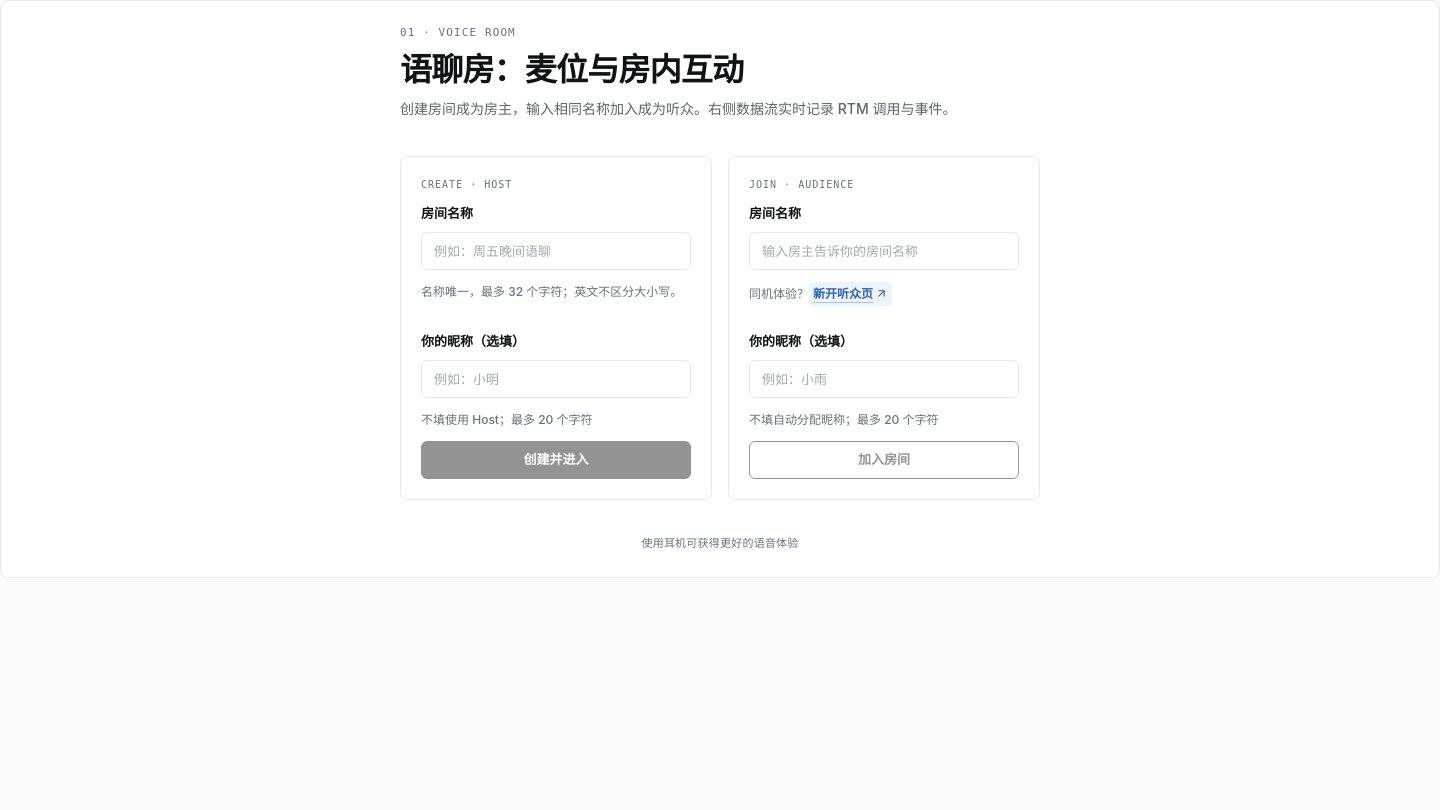
Scenario: 入口选填昵称 › 实际房间订阅期间可取消，清理完成后保留两个昵称草稿
Type "取消昵称" into the field named "房间标题" at {"x": 556, "y": 251}, box [421,232,691,270]
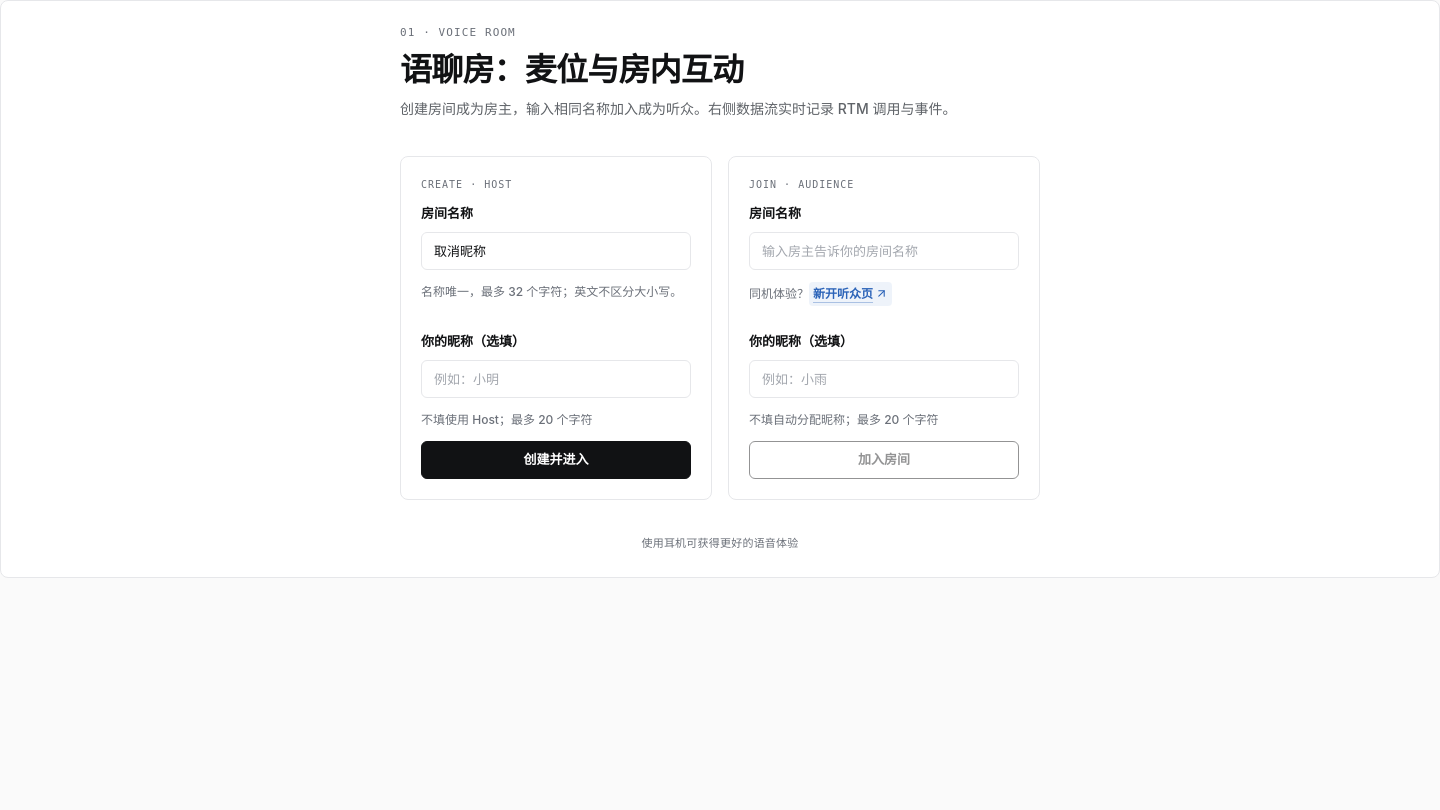
Type "房主草稿" into the field named "房主昵称" at {"x": 556, "y": 379}, box [421,360,691,398]
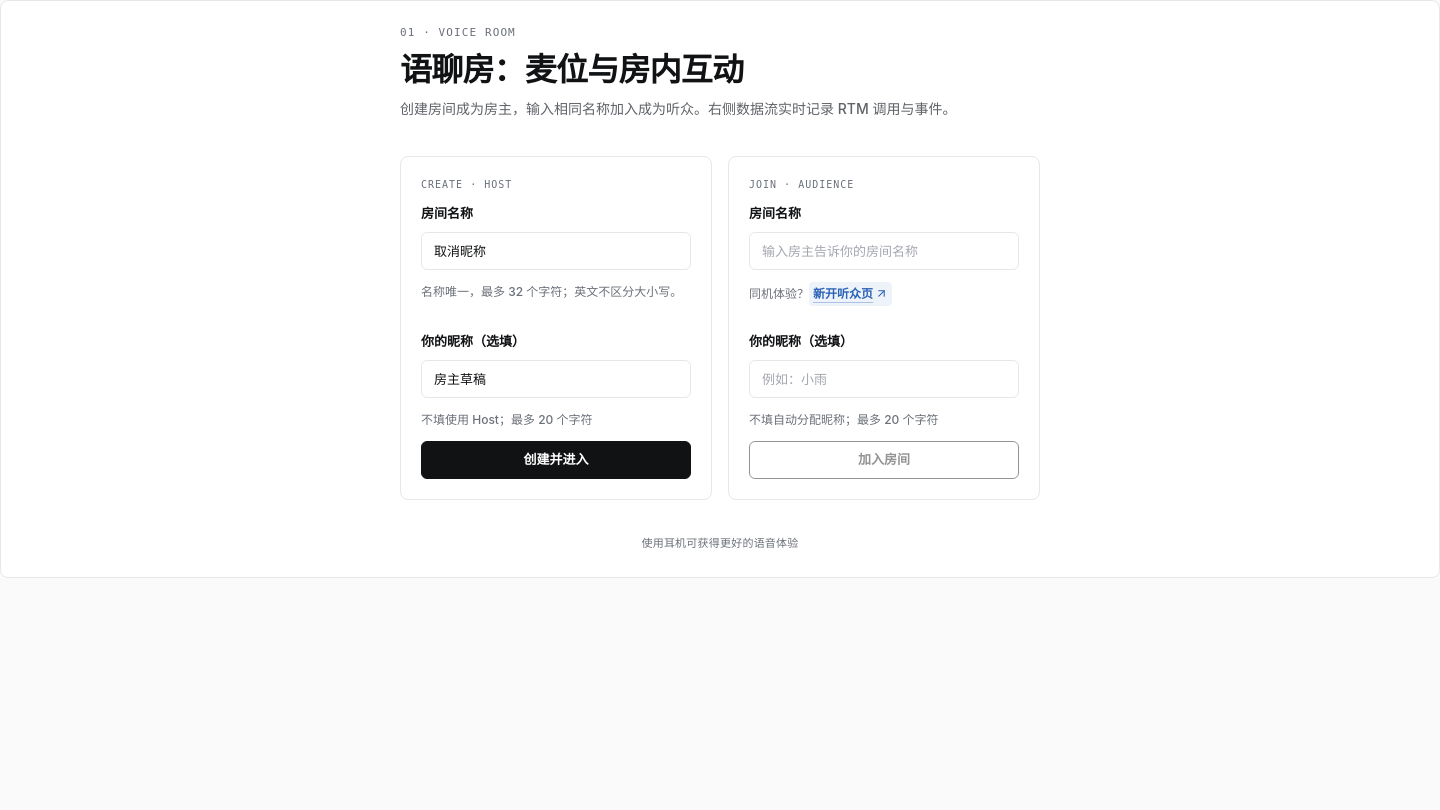
Type "观众草稿" into the field named "观众昵称" at {"x": 884, "y": 379}, box [749,360,1019,398]
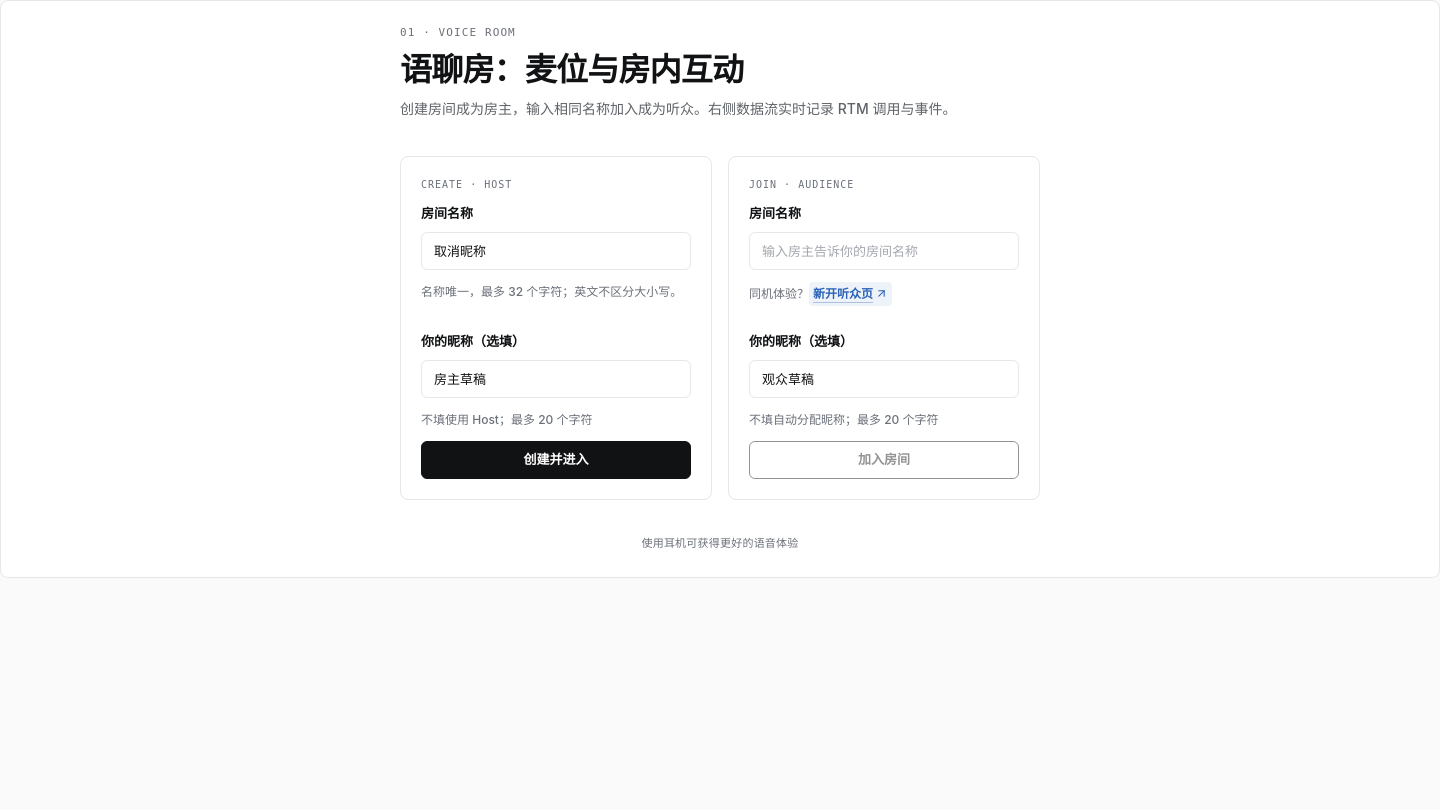
Click the button "创建并进入" at {"x": 556, "y": 460}, box [421,441,691,479]
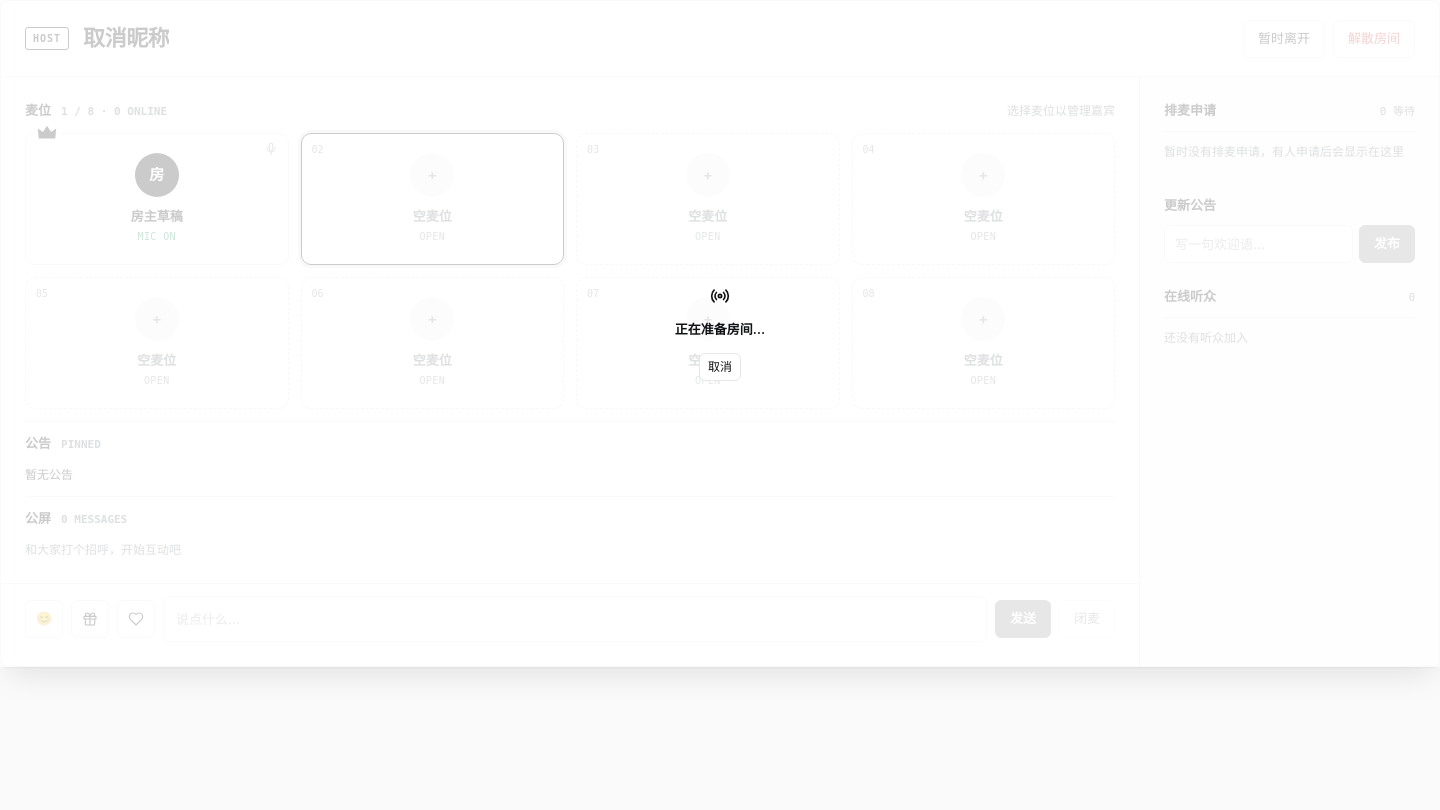
Click the button "取消" at {"x": 720, "y": 367}, box [699,353,741,381]
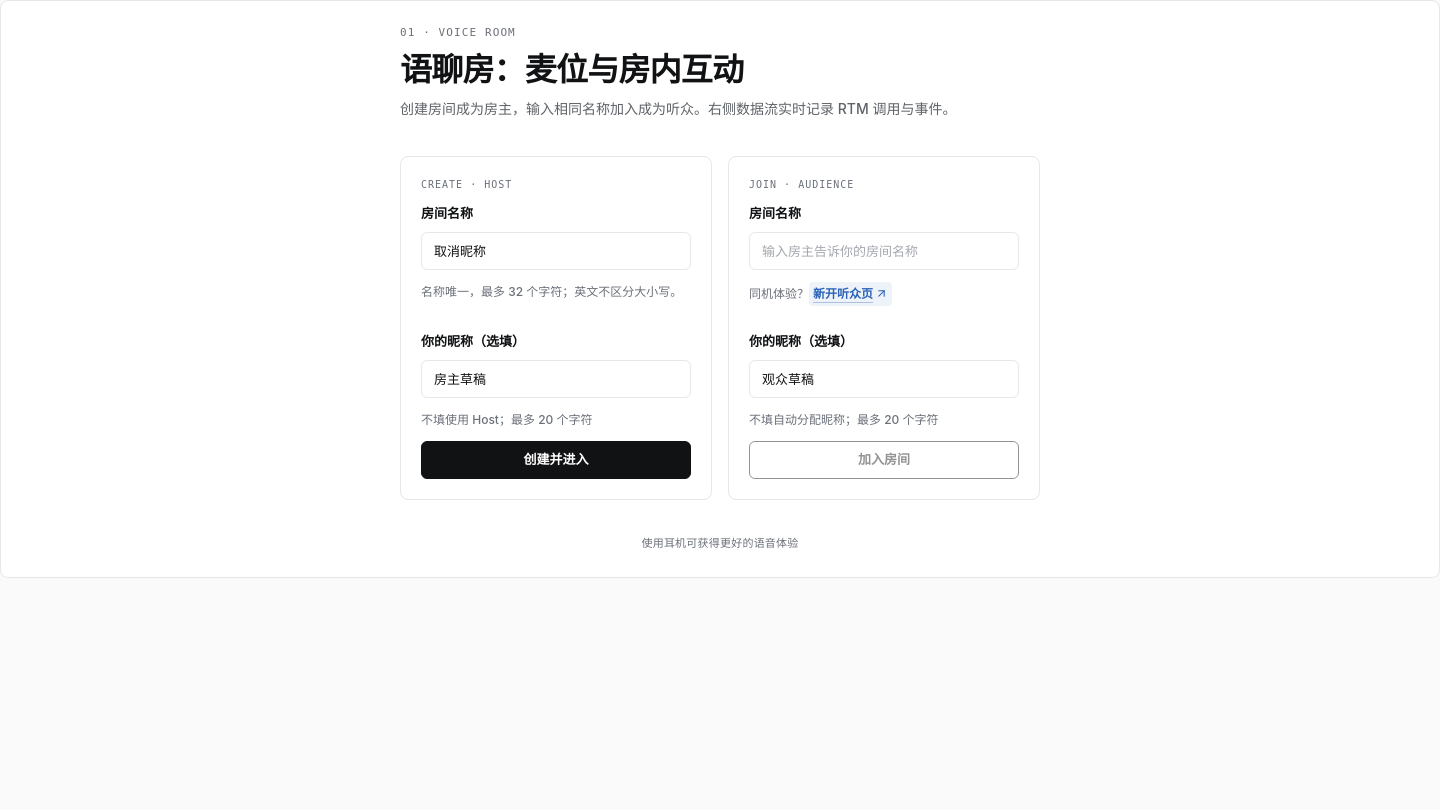
Check: the field named "房主昵称" is enabled, box [421,360,691,398]
Check: the field named "房主昵称" holds "房主草稿", box [421,360,691,398]
Check: the field named "观众昵称" holds "观众草稿", box [749,360,1019,398]
